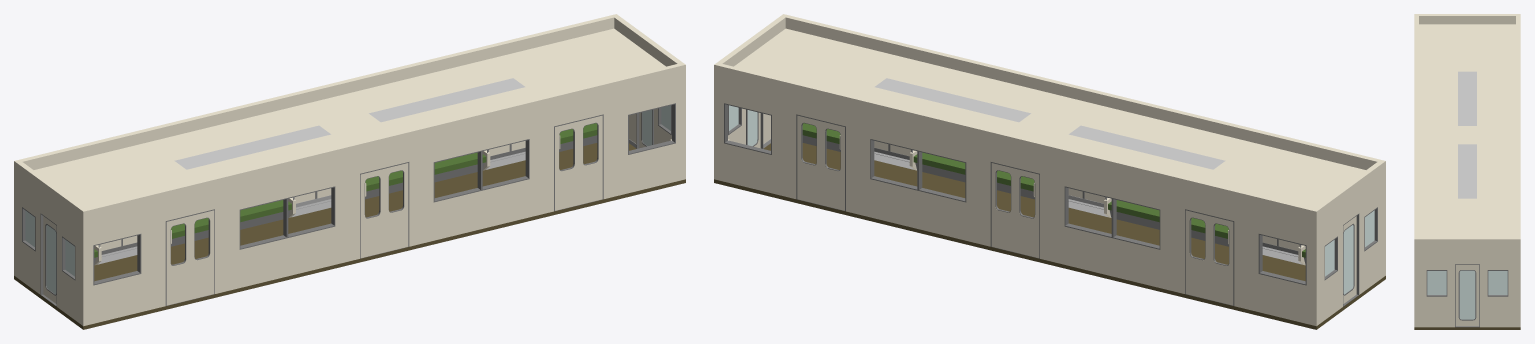
The model's file is subway_interior.glb.
The picture shows the model from 3 angles, left to right: view 1: azimuth 30°, elevation 25°; view 2: azimuth 150°, elevation 25°; view 3: azimuth 270°, elevation 25°; orthographic projection. The views are drawn at different scales.
Size of the model in its own units: 17.06 by 3.2 by 3.4.
